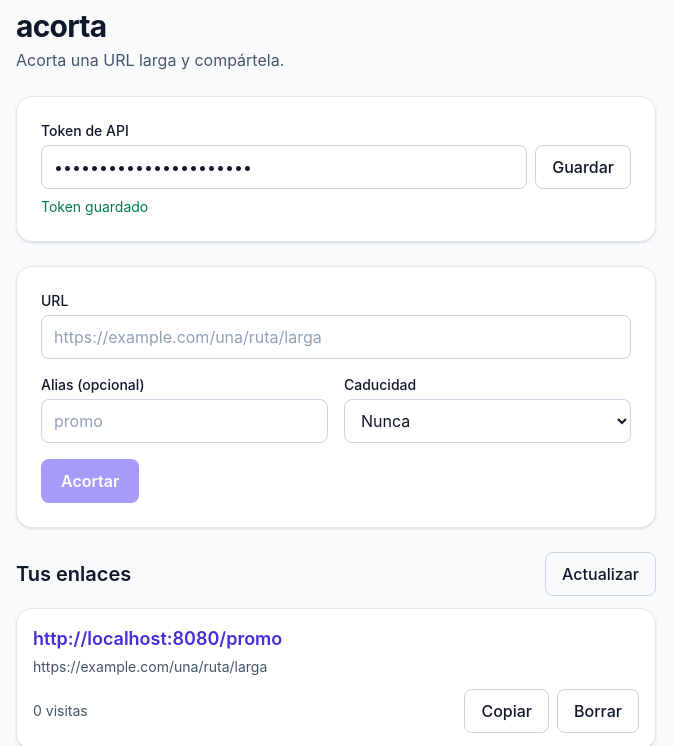
Scenario: autenticación › AUT-13: un 401 al borrar muestra el error tal cual, el enlace sigue en el listado, el token recibe el foco y no se borra
The width and height of the screenshot is (673, 746).
Click the button "Borrar": [598, 711] box [557,689,639,733]
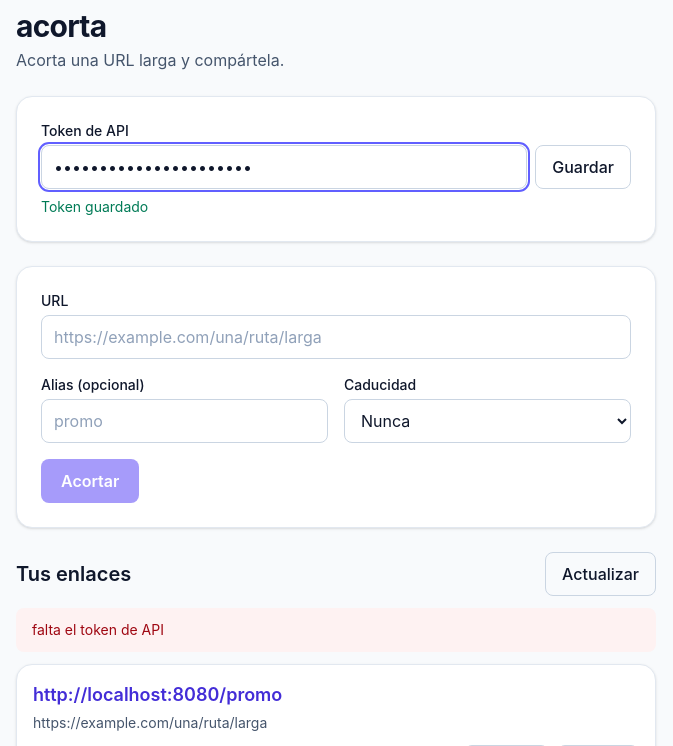
Expected: the label "Token de API" is shown, [41,122,129,139]
Expected: the text "falta el token de API" is shown, [32,621,164,638]
